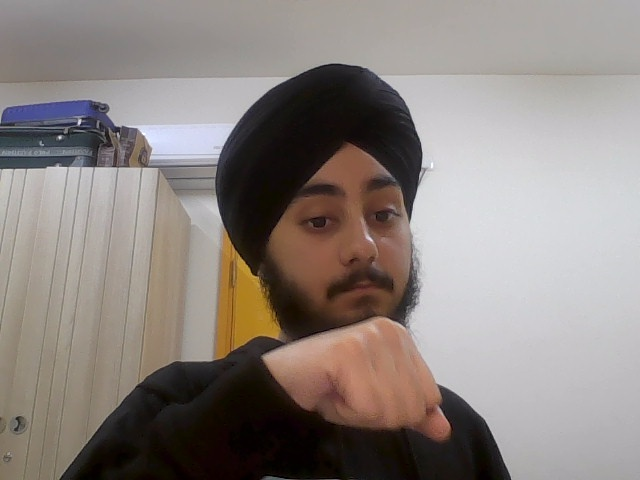Yes: (268, 309, 454, 448)
